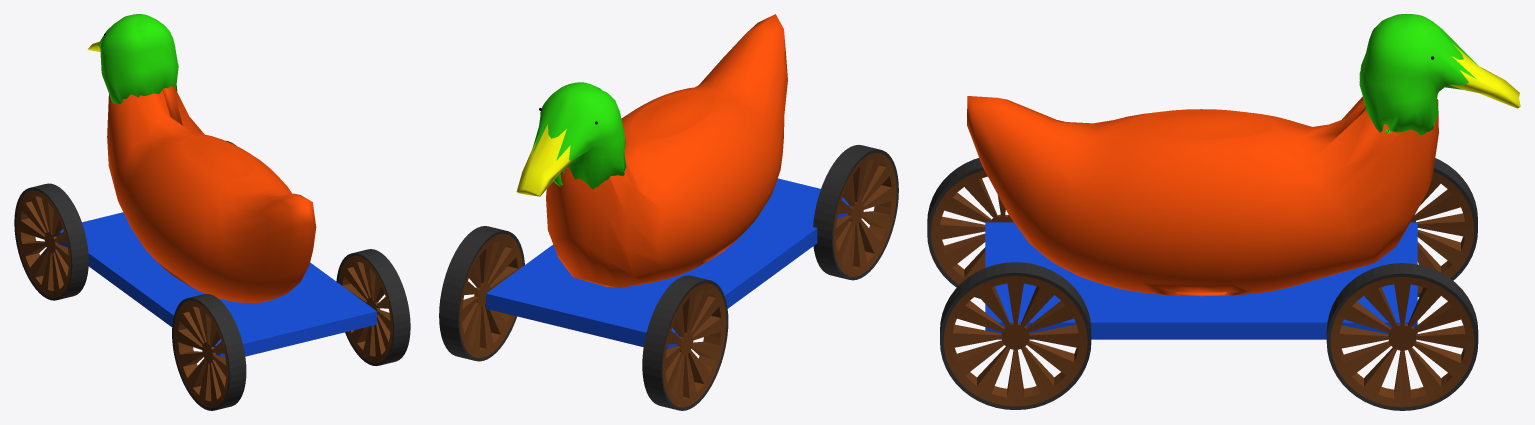
The model's file is Duck.fbx.
The picture shows the model from 3 angles, left to right: view 1: azimuth 30°, elevation 25°; view 2: azimuth 150°, elevation 25°; view 3: azimuth 270°, elevation 25°; orthographic projection. The views are drawn at different scales.
Parts seen in each view (by area): view 1: Sphere, Cube, Circle.001, Circle, Circle.002, Sphere.001; view 2: Sphere, Cube, Circle, Circle.001, Circle.003, Sphere.001, Sphere.002; view 3: Sphere, Cube, Circle.003, Circle.002, Sphere.001, Circle.001, Circle, Sphere.002.
Boxes of the visible parts, x1,y1,x2,y2 form: Sphere: (107, 85, 316, 302); Cube: (56, 212, 376, 357); Circle.001: (172, 294, 246, 410); Circle: (14, 183, 88, 300); Circle.002: (336, 249, 410, 365); Sphere.001: (98, 14, 178, 104); Sphere: (546, 14, 787, 287); Cube: (486, 178, 849, 348); Circle: (642, 275, 728, 410); Circle.001: (813, 145, 898, 280); Circle.003: (439, 226, 524, 361); Sphere.001: (532, 82, 626, 189); Sphere.002: (516, 124, 574, 196); Sphere: (967, 96, 1438, 296); Cube: (985, 222, 1417, 339); Circle.003: (1326, 263, 1478, 410); Circle.002: (940, 262, 1091, 409); Sphere.001: (1359, 14, 1478, 134); Circle.001: (927, 158, 1013, 298); Circle: (1411, 158, 1477, 296); Sphere.002: (1448, 43, 1520, 108).
Size of the model in its own units: 306 by 386 by 626.
